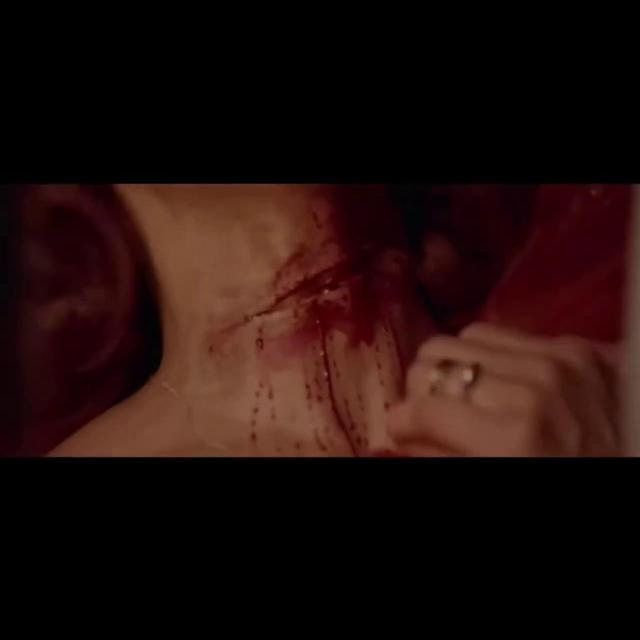blood: (204, 184, 632, 454)
